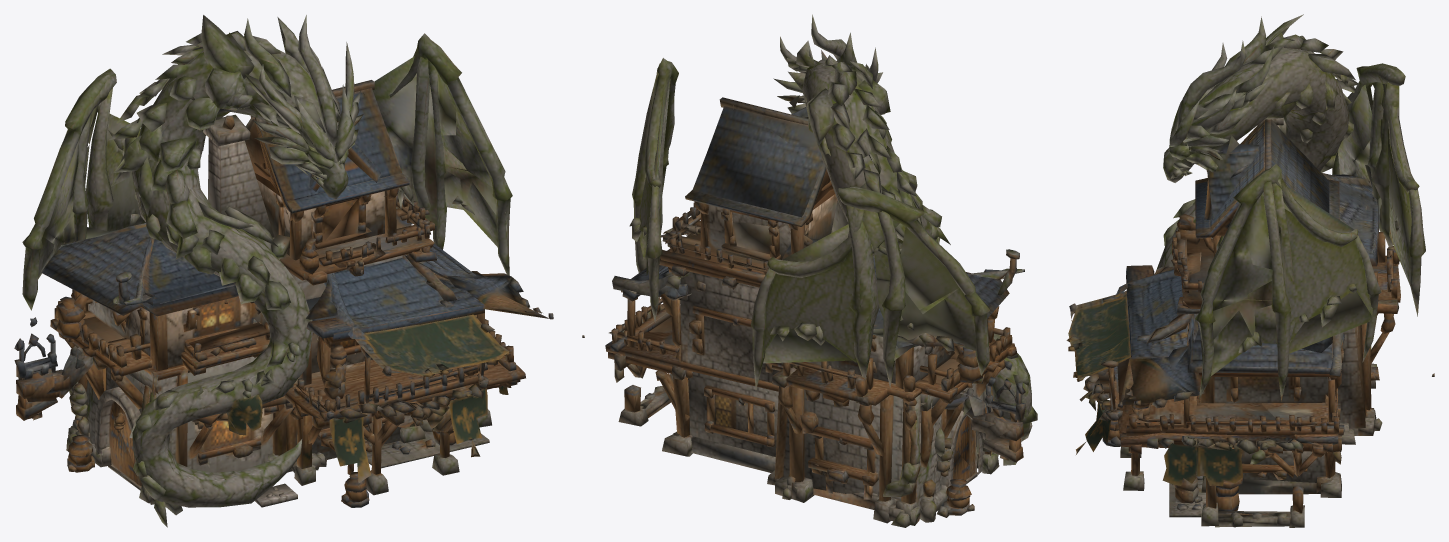
The model's file is greendragon-web.glb.
3 views of the same model, side by side, from view 1: azimuth 30°, elevation 25°; view 2: azimuth 150°, elevation 25°; view 3: azimuth 270°, elevation 25° (orthographic). The views are drawn at different scales.
Bounding box in the file's own units: 1 × 0.9785 × 0.7734.
Materials: 1 (1 with a texture image).
